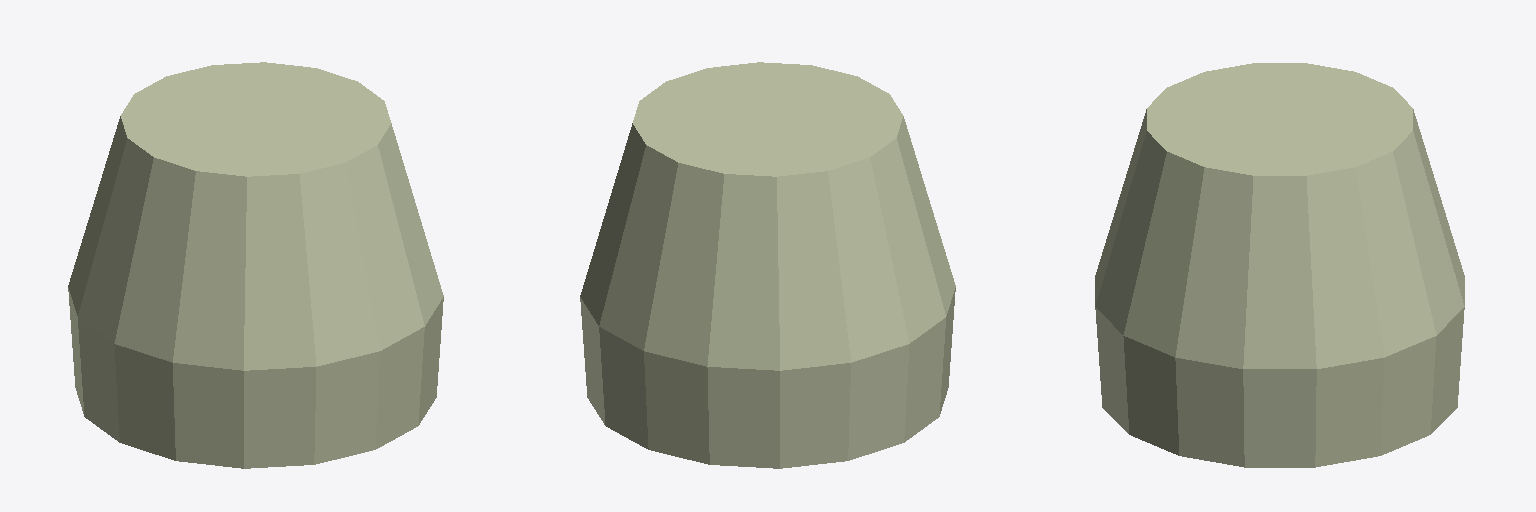
Rendered from Hamal_Control_2.obj.
3 renders of one model, left to right at view 1: azimuth 30°, elevation 25°; view 2: azimuth 150°, elevation 25°; view 3: azimuth 270°, elevation 25°, orthographic.
Visible parts, largest first — view 1: Hamal_Control_2_Collider; view 2: Hamal_Control_2_Collider; view 3: Hamal_Control_2_Collider.
Boxes of the visible parts, x1,y1,x2,y2 form: Hamal_Control_2_Collider: [68, 62, 443, 468]; Hamal_Control_2_Collider: [580, 62, 955, 468]; Hamal_Control_2_Collider: [1095, 63, 1464, 467].
Size of the model in its own units: 1.3 by 1.06 by 1.3.